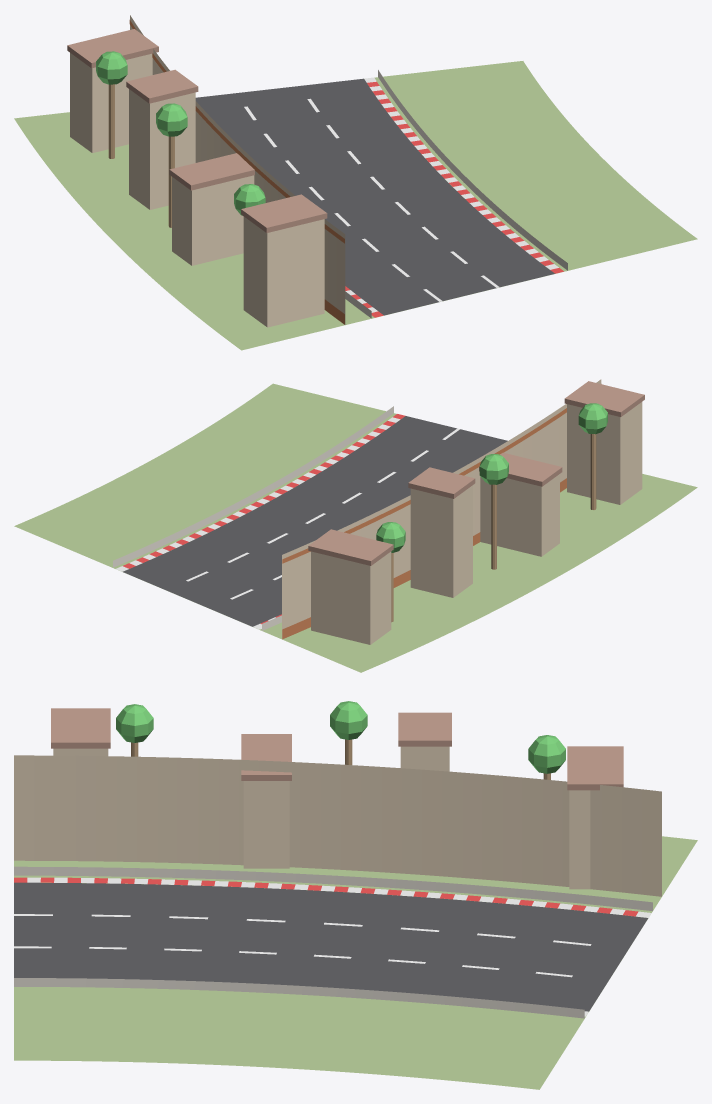
Rendered from env3-curve1.glb.
3 renders of one model, top to bottom at view 1: azimuth 30°, elevation 25°; view 2: azimuth 150°, elevation 25°; view 3: azimuth 270°, elevation 25°, orthographic. The views are drawn at different scales.
Visible parts, largest first — view 1: env1-curve1; view 2: env1-curve1; view 3: env1-curve1.
Part boxes in pixels (x1,y1,x2,y2): env1-curve1: (14, 15, 697, 350); env1-curve1: (14, 379, 697, 672); env1-curve1: (14, 701, 697, 1089).
Size of the model in its own units: 22.26 by 5.12 by 22.36.
